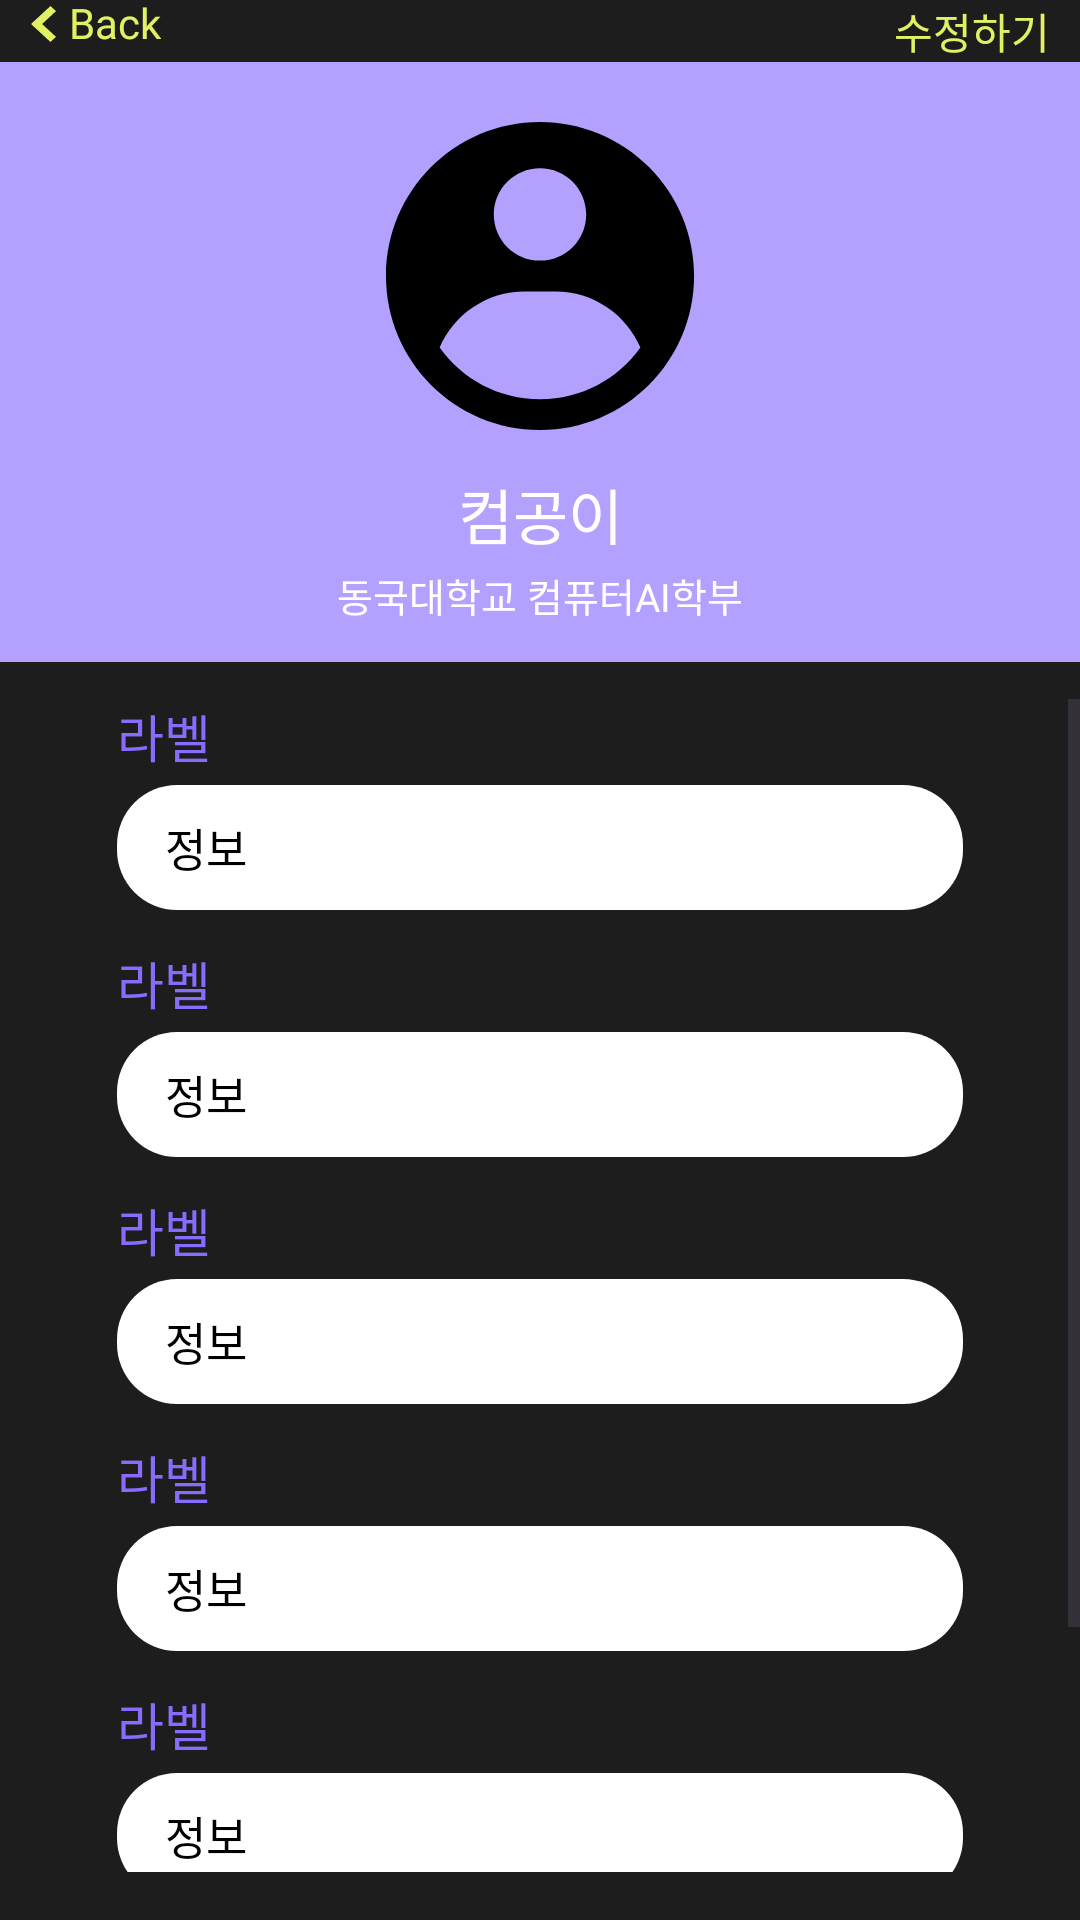

Icon click points for this 1080w x 1920h phone screenshot, format [x,y]:
profile: [540,276]
